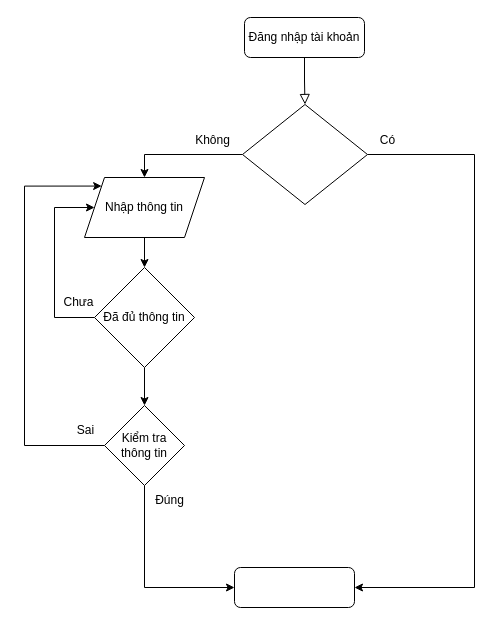
This 500x625 diagram has some shape labels left out. The shapes that lost their labels are listed below. From the top down, each one's centre as x and y in pixels, then its label:
At pixel 305 154: "Đăng nhập bằng Google".
At pixel 294 587: "Hoàn tất đăng nhập".
